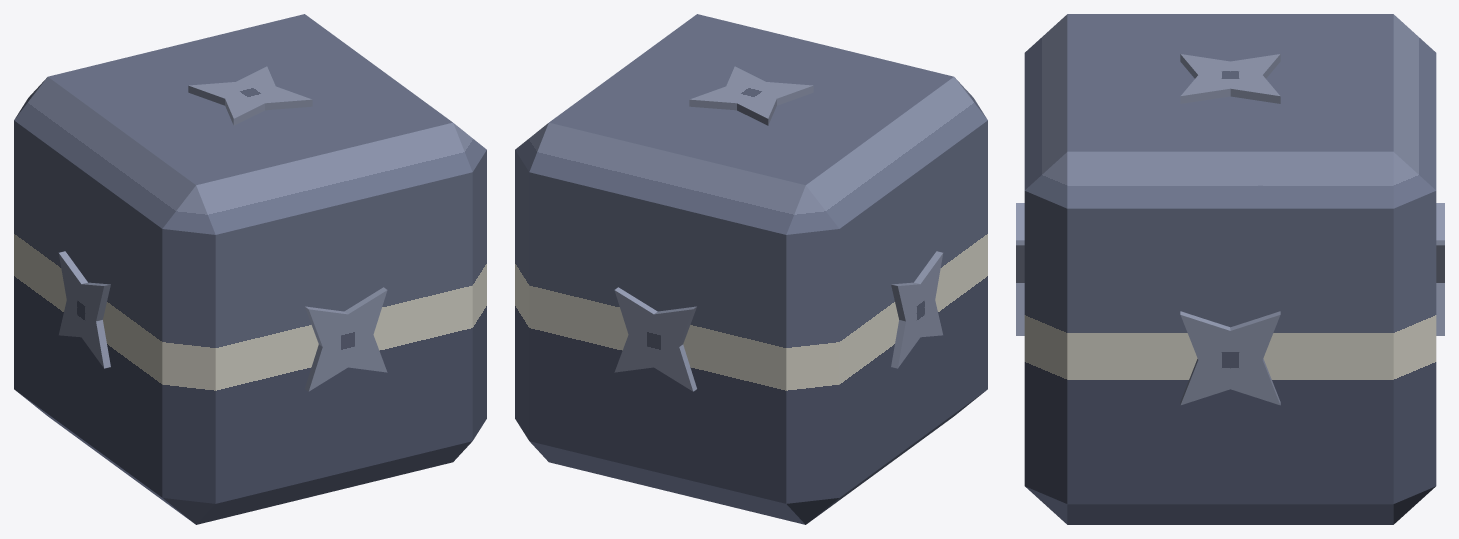
The model's file is armor_block.obj.
3 renders of one model, left to right at view 1: azimuth 30°, elevation 25°; view 2: azimuth 150°, elevation 25°; view 3: azimuth 270°, elevation 25°, orthographic. The views are drawn at different scales.
Parts seen in each view (by area): view 1: armor_block; view 2: armor_block; view 3: armor_block.
Part boxes in pixels (box(x1,y1,x2,y2)): armor_block: box(14, 14, 486, 524); armor_block: box(515, 14, 987, 524); armor_block: box(1016, 14, 1444, 524).
Bounding box in the file's own units: 1 × 1 × 1.
Materials: 1 (1 with a texture image).
